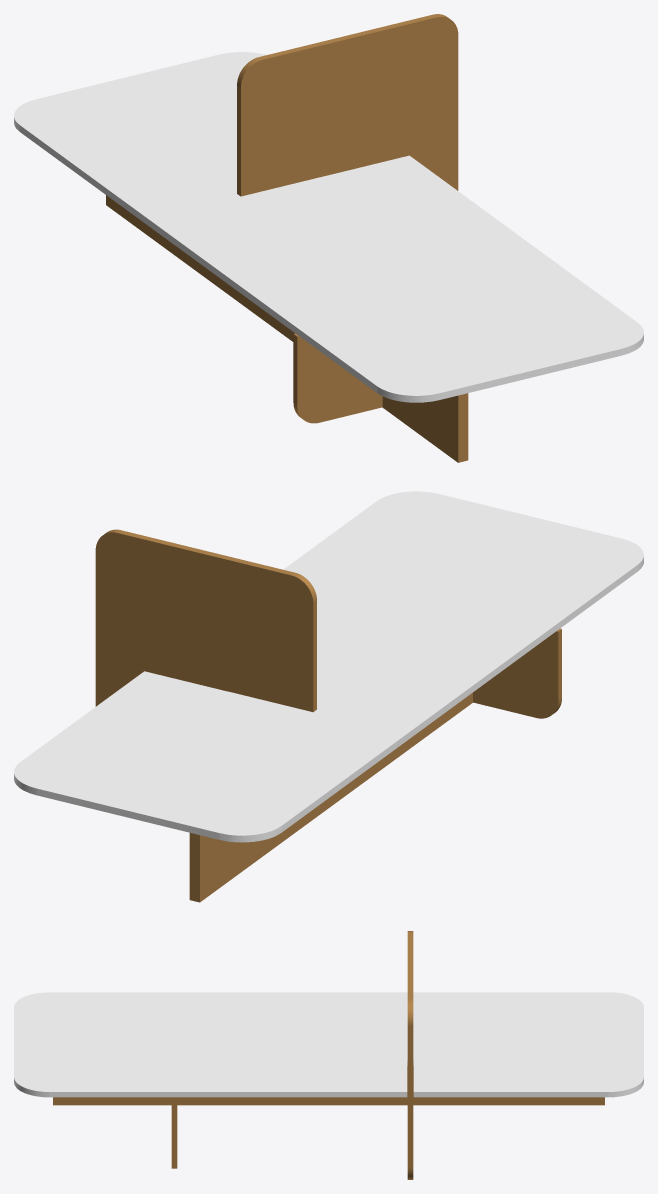
The picture shows the model from 3 angles, top to bottom: view 1: azimuth 30°, elevation 25°; view 2: azimuth 150°, elevation 25°; view 3: azimuth 270°, elevation 25°; orthographic projection. The views are drawn at different scales.
Visible parts, largest first — view 1: Object.013; view 2: Object.013; view 3: Object.013.
Part boxes in pixels (<box>): Object.013: <box>14,14,643,462</box>; Object.013: <box>14,491,643,902</box>; Object.013: <box>14,931,643,1179</box>.
Size of the model in its own units: 0.7144 by 0.5037 by 1.6.
